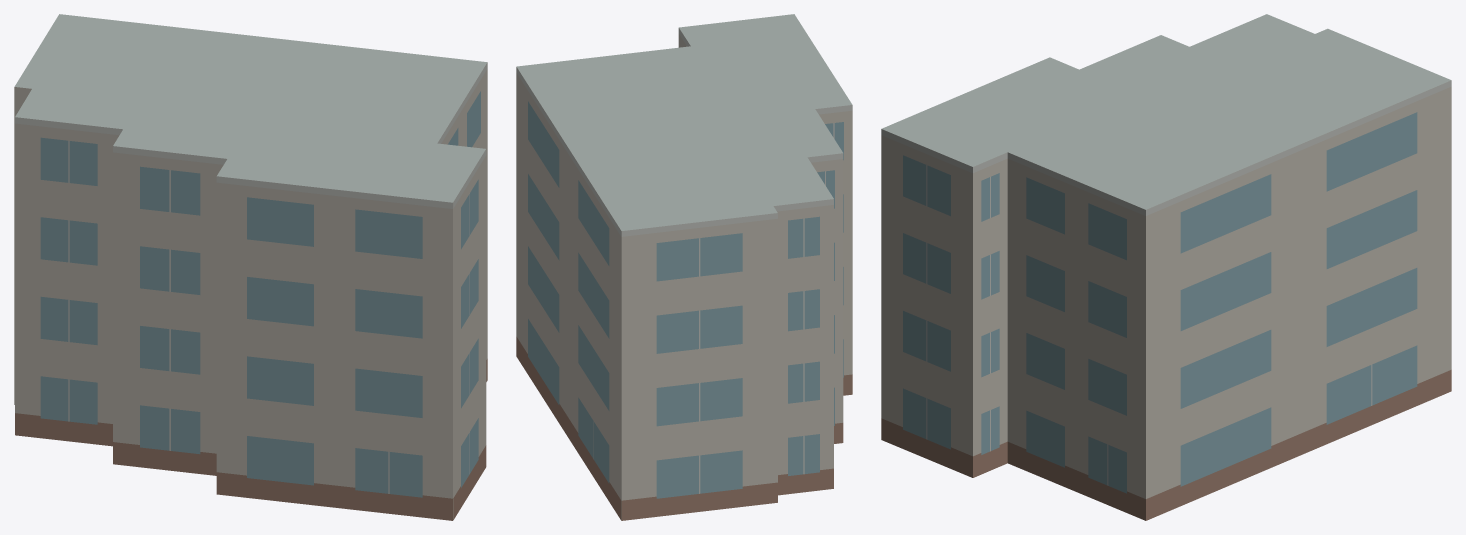
The model's file is survey-upis-32931499.glb.
3 views of the same model, side by side, from view 1: azimuth 30°, elevation 25°; view 2: azimuth 150°, elevation 25°; view 3: azimuth 270°, elevation 25° (orthographic). The views are drawn at different scales.
Visible parts, largest first — view 1: survey-upis-32931499.tmp; view 2: survey-upis-32931499.tmp; view 3: survey-upis-32931499.tmp.
Part boxes in pixels (x1,y1,x2,y2): survey-upis-32931499.tmp: [14, 14, 487, 520]; survey-upis-32931499.tmp: [516, 14, 852, 520]; survey-upis-32931499.tmp: [881, 14, 1451, 520].
Bounding box in the file's own units: 16.49 × 12.2 × 20.29.
